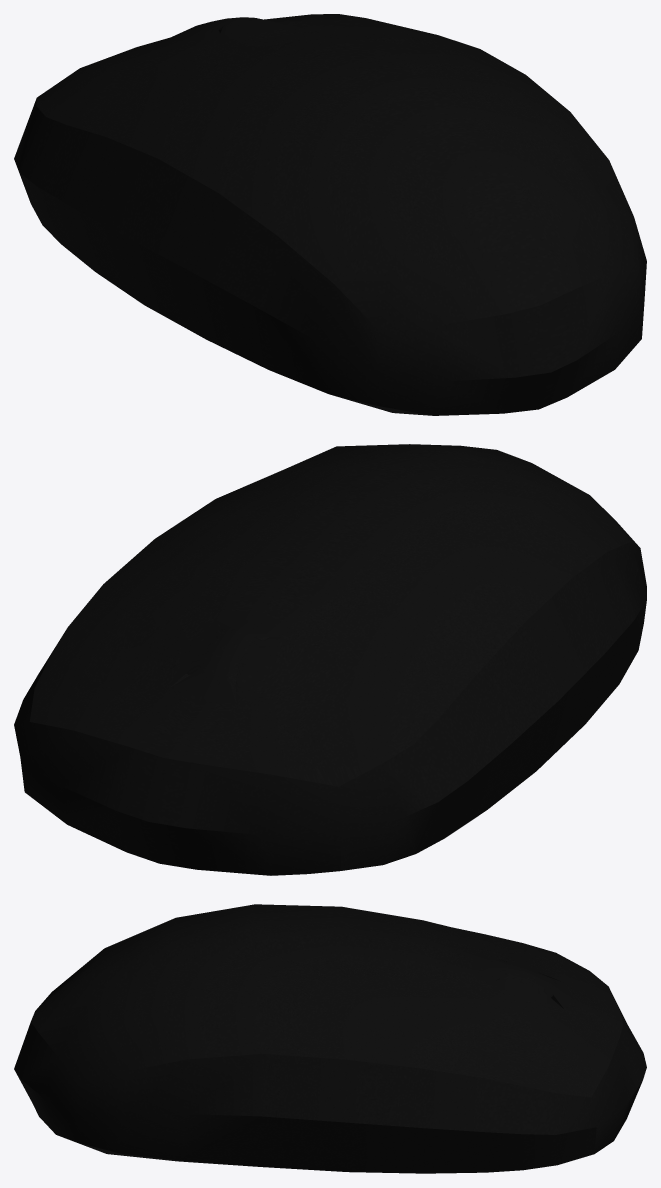
Rendered from Mouse.fbx.
3 views of the same model, one above another, from view 1: azimuth 30°, elevation 25°; view 2: azimuth 150°, elevation 25°; view 3: azimuth 270°, elevation 25° (orthographic). The views are drawn at different scales.
Parts seen in each view (by area): view 1: Mouse; view 2: Mouse; view 3: Mouse.
Part boxes in pixels (<box>): Mouse: <box>14,14,646,415</box>; Mouse: <box>14,444,646,875</box>; Mouse: <box>14,904,646,1173</box>.
Size of the model in its own units: 6.44 by 3.41 by 10.14.
